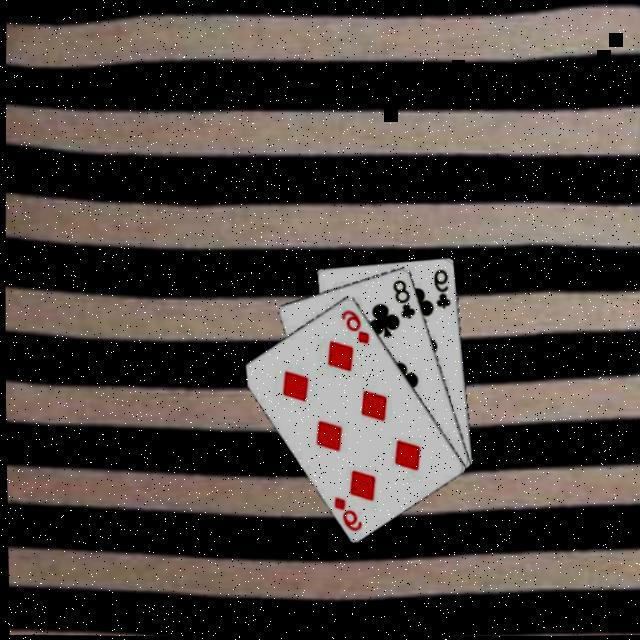6D: (330, 492, 365, 534), (338, 305, 373, 346)
8C: (390, 276, 420, 320)
9C: (430, 266, 454, 310)
